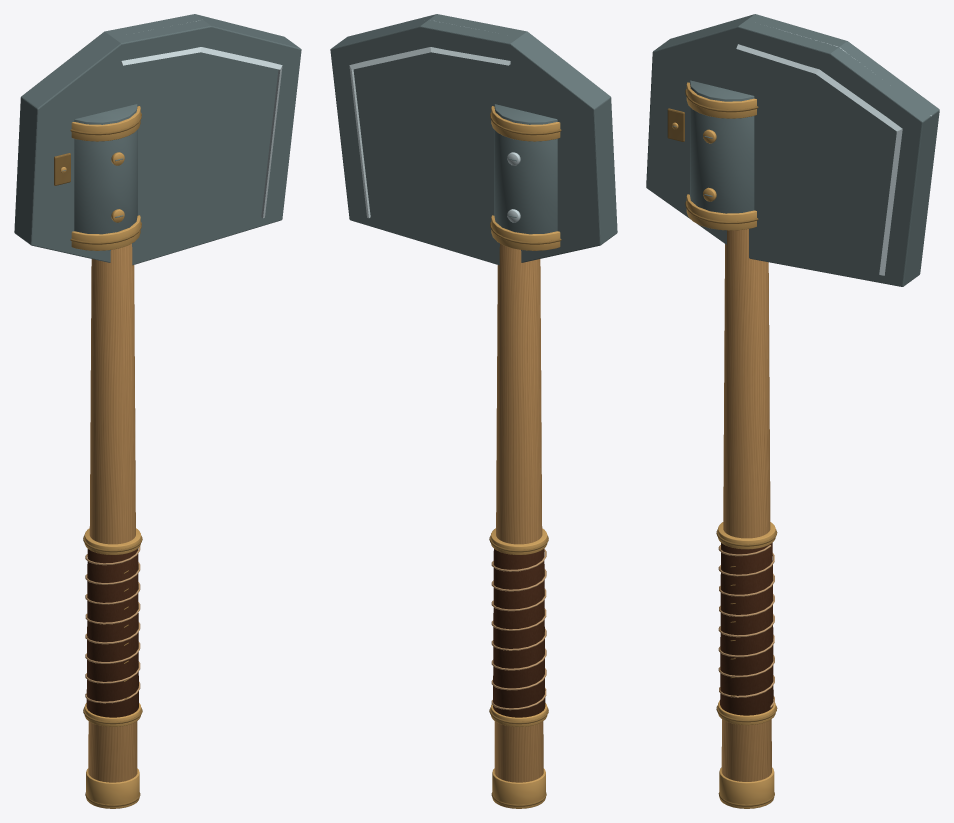
File: axe.glb
3 renders of one model, left to right at view 1: azimuth 30°, elevation 25°; view 2: azimuth 150°, elevation 25°; view 3: azimuth 330°, elevation 25°, orthographic. The views are drawn at different scales.
Parts seen in each view (by area): view 1: Render_axe; view 2: Render_axe; view 3: Render_axe.
Boxes of the visible parts, x1,y1,x2,y2 form: Render_axe: [14, 14, 301, 808]; Render_axe: [330, 14, 617, 808]; Render_axe: [646, 14, 939, 808].
Bounding box in the file's own units: 0.4535 × 1.22 × 0.1298.
8 materials, 8 textured.
